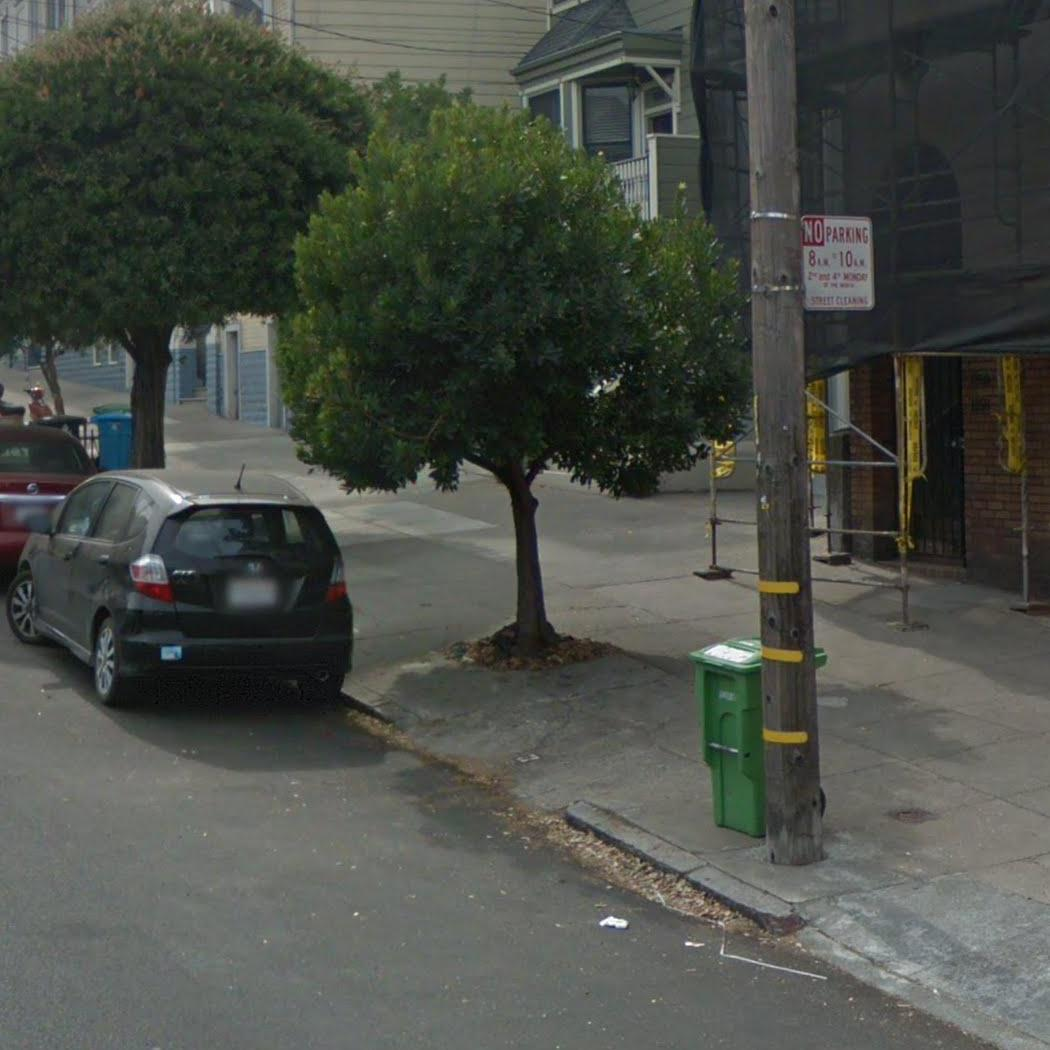No Parking: (795, 203, 877, 309)
